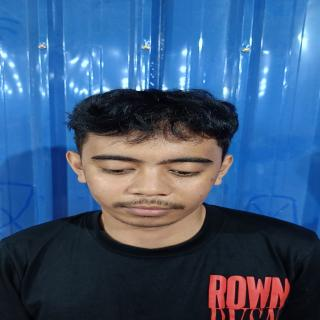Sedih: (74, 119, 219, 230)
